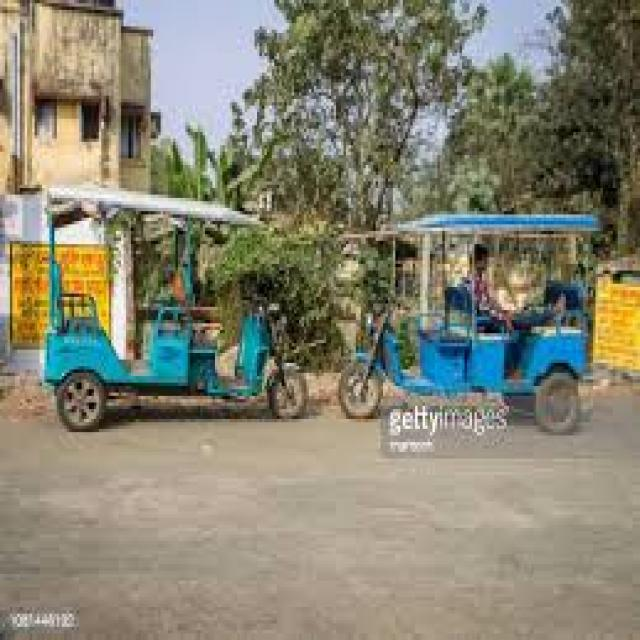Toto: (40, 194, 315, 436), (338, 230, 614, 461)
